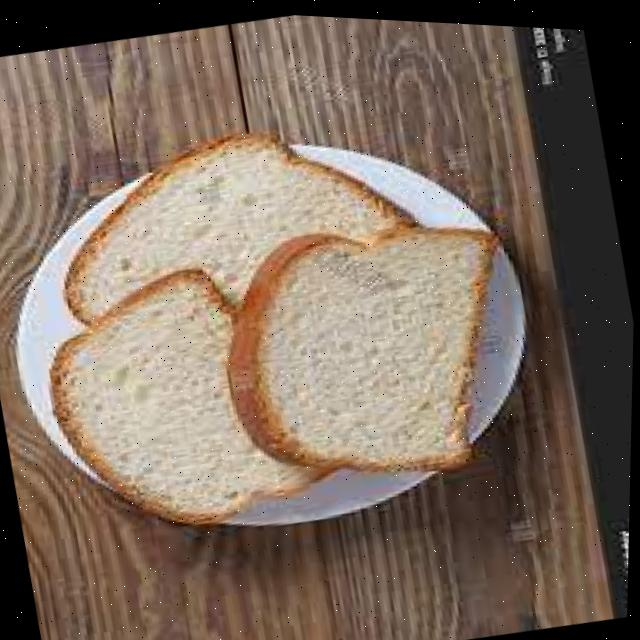Bread: (51, 268, 323, 520), (67, 131, 410, 321), (231, 222, 493, 466)
